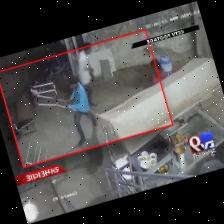person: (66, 76, 96, 146), (77, 43, 95, 106)
